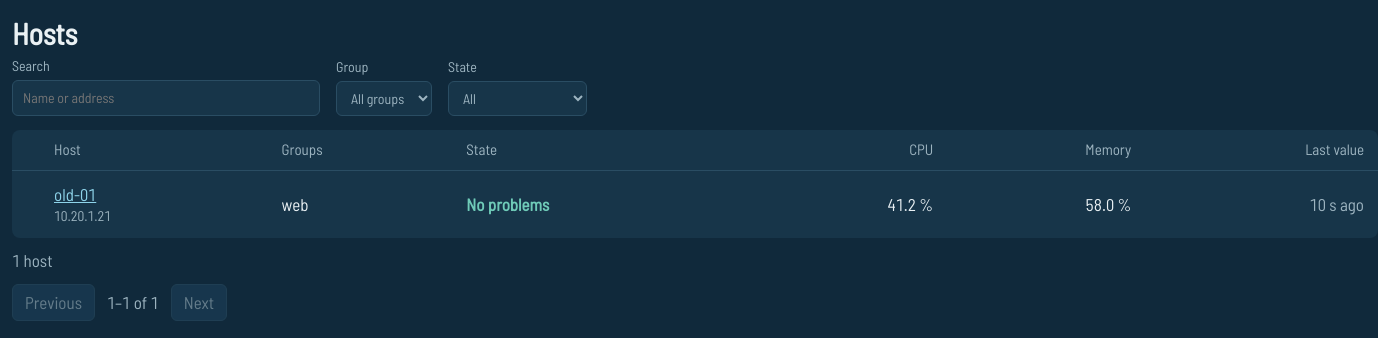
failure and change of query › shows the failure, not the old rows, when the first answer for a new filter fails
The width and height of the screenshot is (1378, 338).
Select "Without problems" in the dropdown labelled "State" at (518, 99), box [448,81,587,116]
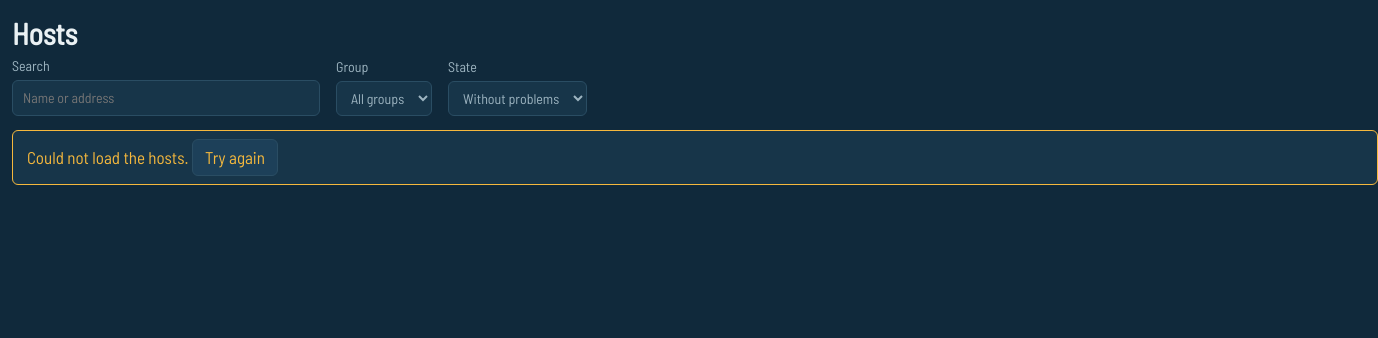
Expected: the text "Could not load the hosts. Try again" is shown, [12,130,1377,185]
Expected: the link "old-01" is gone
